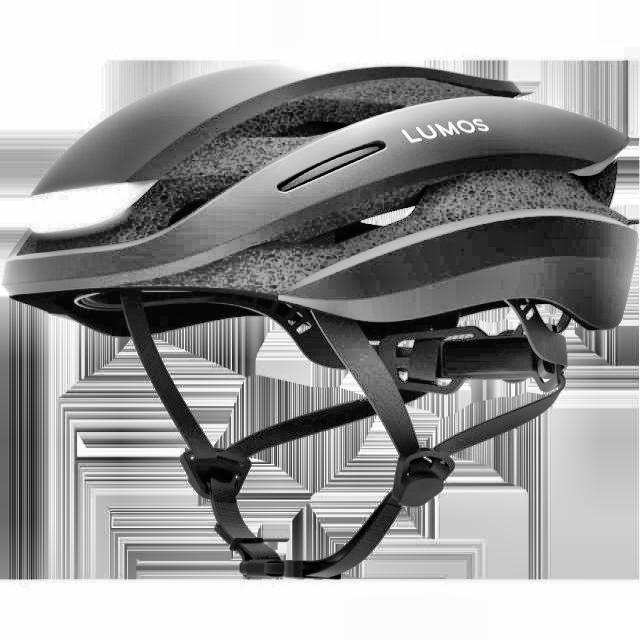Helmet: (0, 47, 640, 585)
